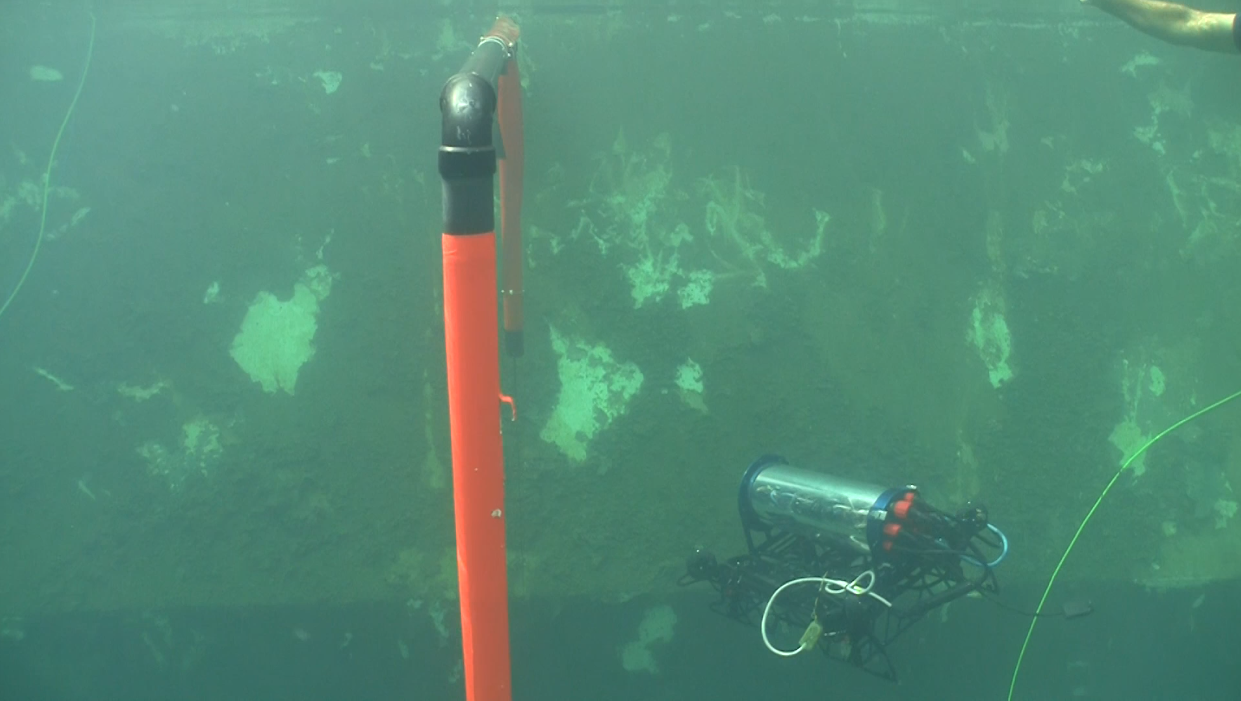gate: (427, 12, 546, 700)
